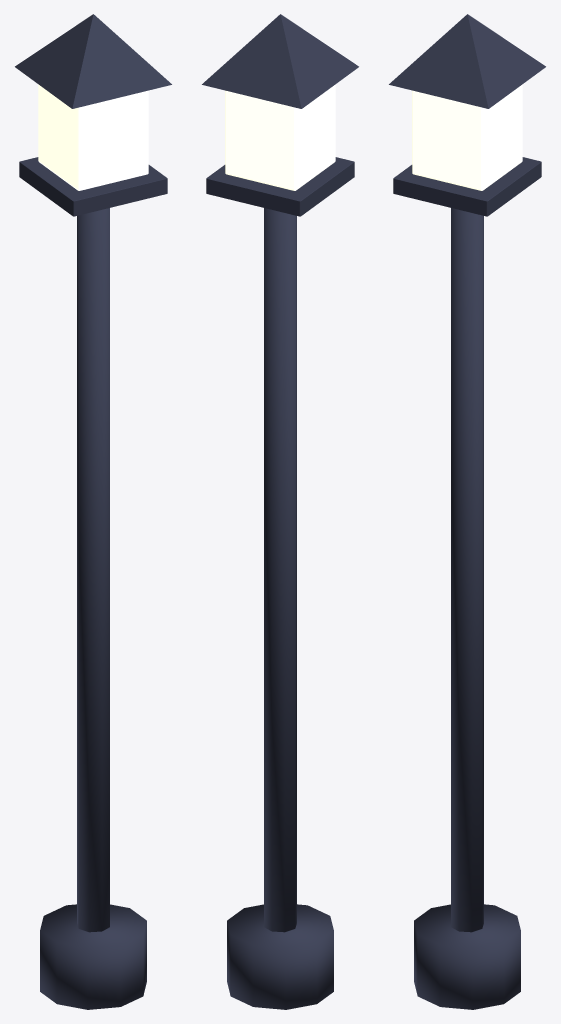
Rendered from lampa.glb.
3 renders of one model, left to right at view 1: azimuth 30°, elevation 25°; view 2: azimuth 150°, elevation 25°; view 3: azimuth 330°, elevation 25°, orthographic.
Parts seen in each view (by area): view 1: lampa; view 2: lampa; view 3: lampa.
Boxes of the visible parts, bbox=[...] form: lampa: bbox=[15, 14, 171, 1009]; lampa: bbox=[202, 14, 358, 1009]; lampa: bbox=[389, 14, 545, 1009].
Size of the model in its own units: 0.3394 by 3.15 by 0.3394.
